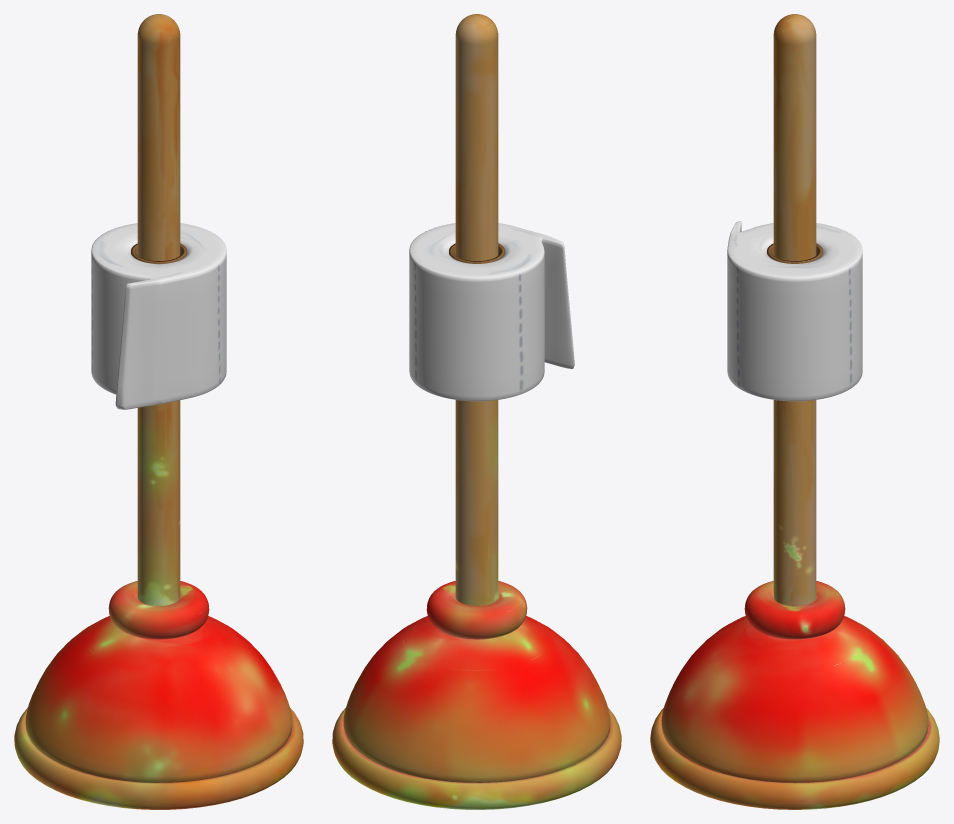
Rendered from Monster Mash_Horn 2.fbx.
3 views of the same model, side by side, from view 1: azimuth 30°, elevation 25°; view 2: azimuth 150°, elevation 25°; view 3: azimuth 270°, elevation 25° (orthographic).
Parts seen in each view (by area): view 1: polySurface1.001, Cylinder; view 2: polySurface1.001, Cylinder; view 3: polySurface1.001, Cylinder.
Boxes of the visible parts, left/top/right/bottom form: polySurface1.001: left=14, top=14, right=303, bottom=809; Cylinder: left=91, top=223, right=226, bottom=409; polySurface1.001: left=332, top=14, right=621, bottom=809; Cylinder: left=409, top=223, right=574, bottom=401; polySurface1.001: left=650, top=14, right=939, bottom=809; Cylinder: left=727, top=221, right=862, bottom=401.
Size of the model in its own units: 60.32 by 169 by 60.32.
